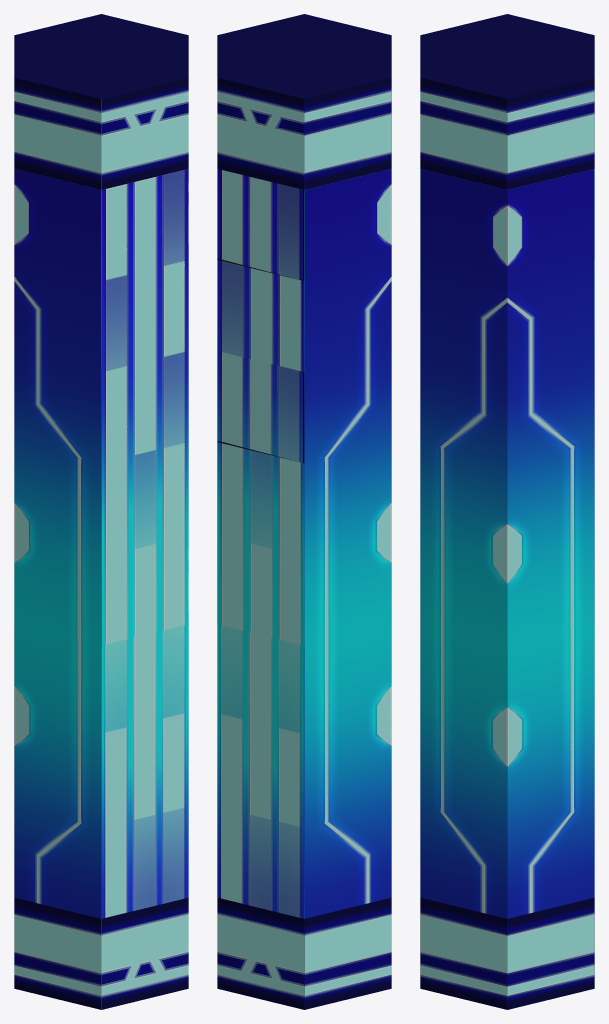
Rendered from PLAG_SimpleBldg_10.obj.
The picture shows the model from 3 angles, left to right: view 1: azimuth 30°, elevation 25°; view 2: azimuth 150°, elevation 25°; view 3: azimuth 270°, elevation 25°; orthographic projection.
Parts seen in each view (by area): view 1: PLAG_SimpleBldg_10; view 2: PLAG_SimpleBldg_10; view 3: PLAG_SimpleBldg_10.
Part boxes in pixels (bbox=[...]): PLAG_SimpleBldg_10: bbox=[14, 14, 188, 1009]; PLAG_SimpleBldg_10: bbox=[217, 14, 391, 1009]; PLAG_SimpleBldg_10: bbox=[420, 14, 594, 1009].
Bounding box in the file's own units: 200 × 1000 × 173.
